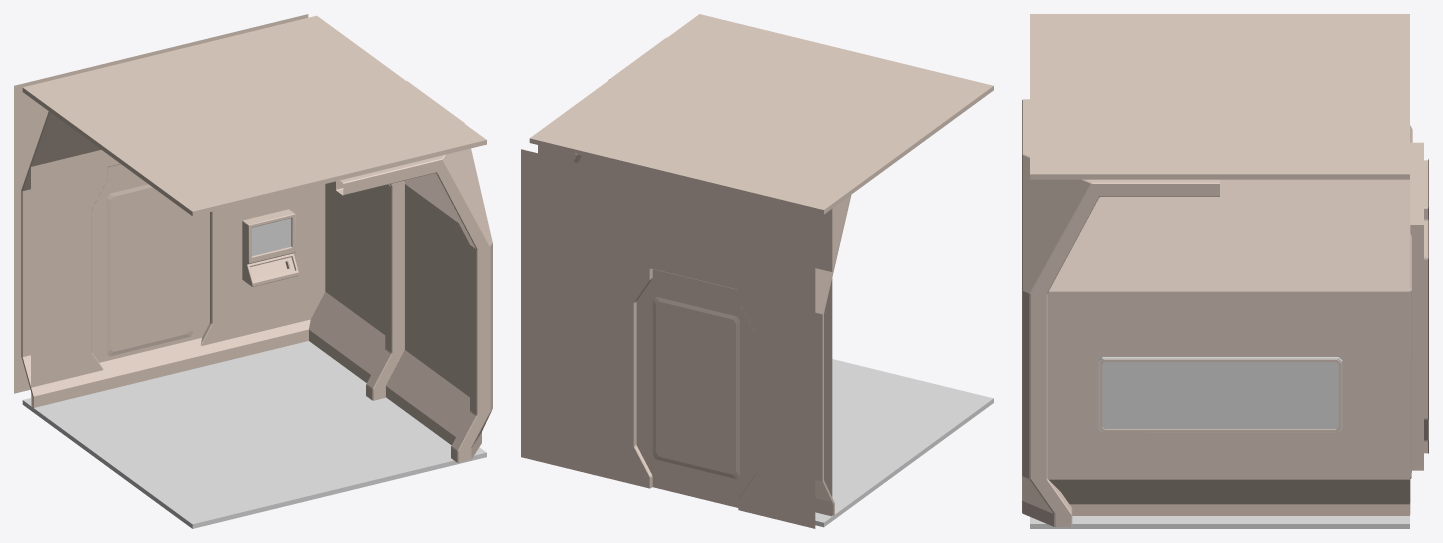
The model's file is Ship.fbx.
3 renders of one model, left to right at view 1: azimuth 30°, elevation 25°; view 2: azimuth 150°, elevation 25°; view 3: azimuth 270°, elevation 25°, orthographic. The views are drawn at different scales.
Parts seen in each view (by area): view 1: Ceiling, Ground, Wall_Door, Door, Wall, Wall_Window, Wall_Corner, Connector_Corner, Connector, Wall_DoorConsole; view 2: Wall_Door, Ceiling, Door, Ground, Wall_Corner; view 3: Wall, Ceiling, Wall_Window, Connector_Corner, Ground, Door, Wall_Door, Wall_Corner.
Boxes of the visible parts, x1,y1,x2,y2 form: Ceiling: [22, 15, 486, 216]; Ground: [22, 341, 486, 528]; Wall_Door: [14, 14, 325, 405]; Door: [92, 164, 209, 362]; Wall: [309, 153, 469, 396]; Wall_Window: [309, 176, 469, 445]; Wall_Corner: [21, 111, 455, 441]; Connector_Corner: [336, 81, 492, 462]; Connector: [366, 181, 404, 400]; Wall_DoorConsole: [242, 209, 298, 286]; Wall_Door: [521, 145, 832, 528]; Ceiling: [529, 14, 993, 214]; Door: [636, 269, 754, 507]; Ground: [815, 359, 993, 527]; Wall_Corner: [815, 195, 851, 515]; Wall: [1047, 179, 1409, 515]; Ceiling: [1030, 14, 1409, 179]; Wall_Window: [1098, 154, 1410, 514]; Connector_Corner: [1022, 99, 1219, 527]; Ground: [1030, 516, 1409, 528]; Door: [1410, 142, 1423, 470]; Wall_Door: [1424, 159, 1428, 453]; Wall_Corner: [1410, 125, 1412, 478].
Size of the model in its own units: 411 by 412 by 429.
